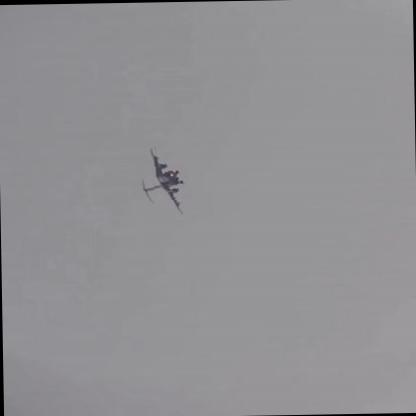plane: (139, 144, 191, 219)
